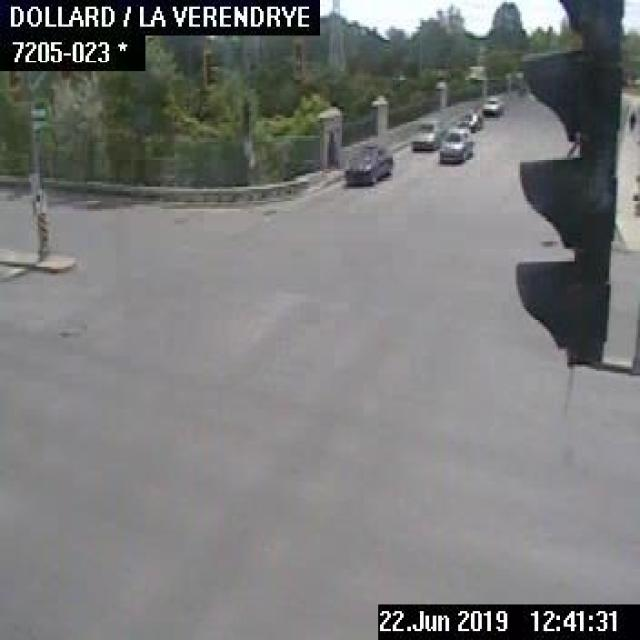pedestrian: (627, 111, 638, 136)
vehicle: (342, 141, 392, 184), (437, 128, 475, 162), (410, 116, 440, 150), (457, 104, 482, 134), (480, 95, 504, 116)
